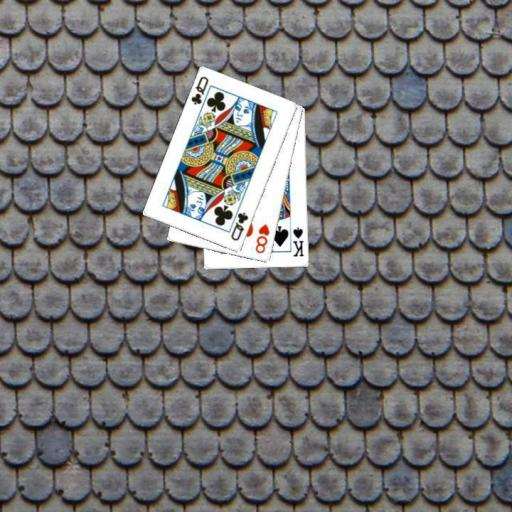card-corner: (228, 209, 250, 243), (188, 73, 210, 107), (252, 221, 271, 255), (290, 224, 305, 259)
